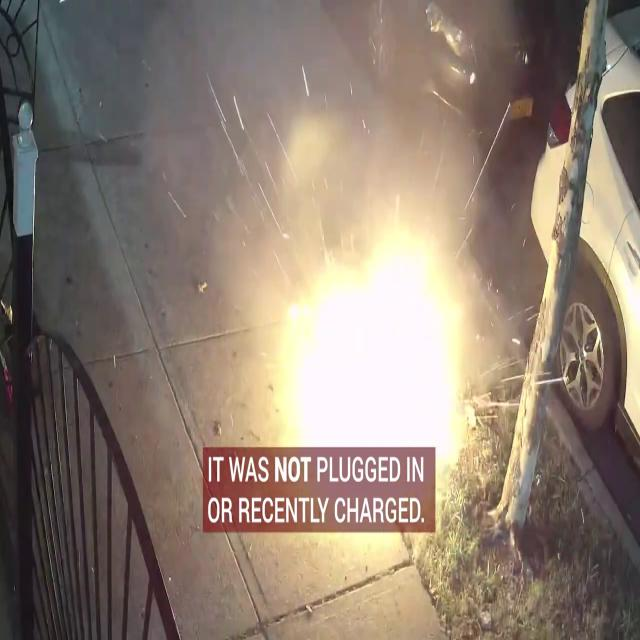Fire: (258, 142, 484, 470)
